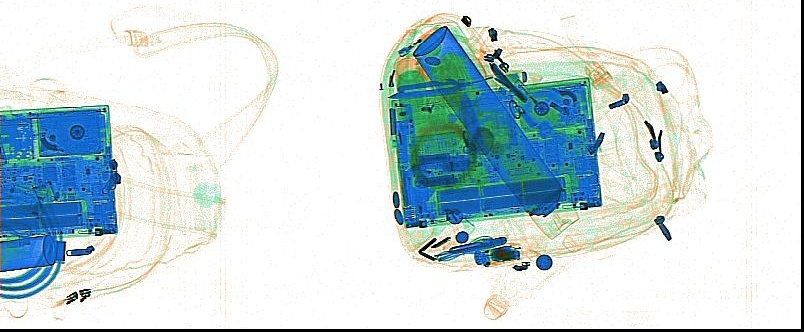knife: (386, 69, 528, 100), (488, 60, 528, 102), (446, 236, 507, 255)
pressure: (413, 25, 581, 241), (1, 234, 58, 271)
